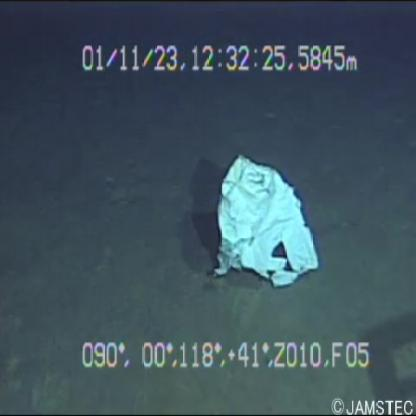Rác: (199, 136, 328, 300)
